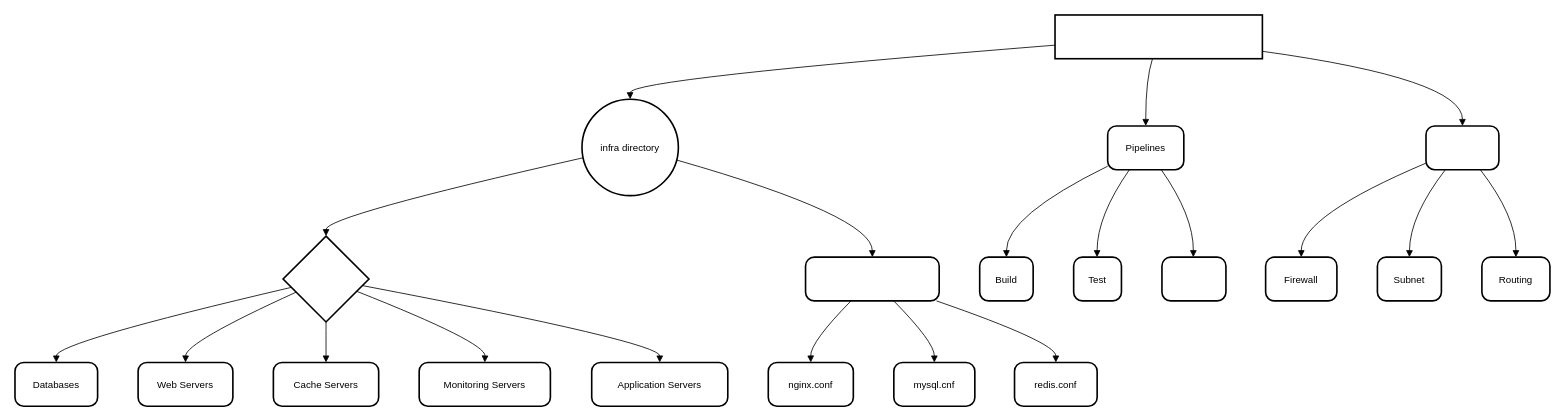
Image size: 1564x420. Some labels were removed from this diagram. Each missing label, with the centre of its shape:
Configuration Files: the point at 872,278
Deploy: the point at 1193,278
Network: the point at 1462,147
Preproduction Environment: the point at 1158,36
Servers: the point at 325,278
